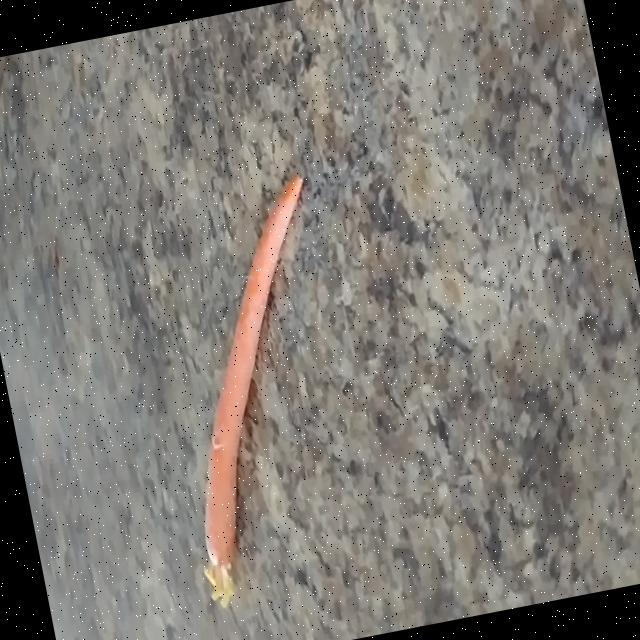carrot: (204, 175, 303, 606)
